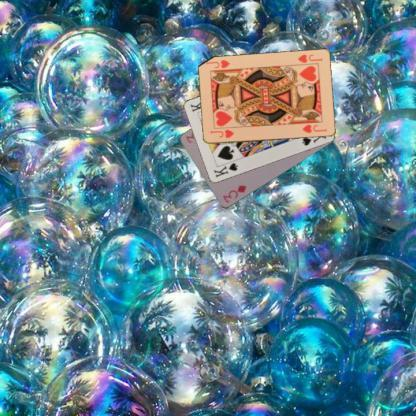3d: (220, 182, 247, 205)
Jh: (294, 52, 324, 64), (208, 127, 235, 139)
Ks: (210, 160, 240, 180)
